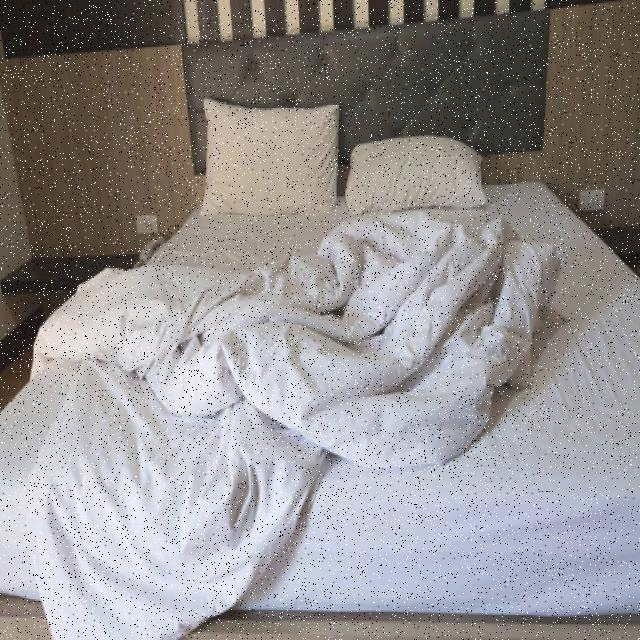bed: (1, 113, 625, 622)
